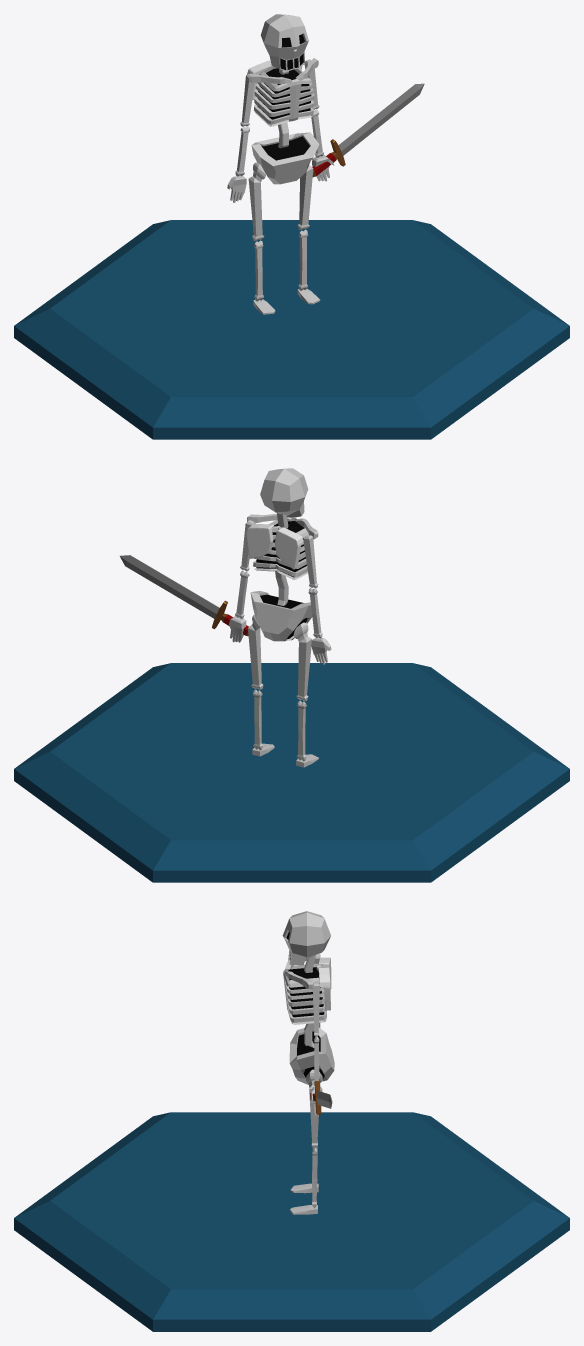
Rendered from Sword_Figure.fbx.
3 views of the same model, one above another, from view 1: azimuth 30°, elevation 25°; view 2: azimuth 150°, elevation 25°; view 3: azimuth 270°, elevation 25° (orthographic).
Parts seen in each view (by area): view 1: Base, Ribs, Waist, Skull, Blade, Upper Leg Right, Upper Leg Left, Collar Bones; view 2: Base, Waist, Skull, Blade, Shoulder, Ribs, Upper Leg Right, Upper Leg Left; view 3: Base, Skull, Ribs, Waist, Shoulder.
Part boxes in pixels (bbox=[...]): Base: bbox=[14, 220, 569, 439]; Ribs: bbox=[254, 66, 314, 126]; Waist: bbox=[251, 132, 319, 184]; Skull: bbox=[260, 14, 308, 71]; Blade: bbox=[312, 83, 424, 177]; Upper Leg Right: bbox=[248, 162, 265, 241]; Upper Leg Left: bbox=[297, 165, 313, 230]; Collar Bones: bbox=[247, 58, 318, 83]; Base: bbox=[14, 663, 569, 882]; Waist: bbox=[250, 591, 312, 641]; Skull: bbox=[260, 468, 308, 517]; Blade: bbox=[120, 555, 248, 636]; Shoulder: bbox=[246, 524, 303, 569]; Ribs: bbox=[253, 518, 308, 579]; Upper Leg Right: bbox=[293, 622, 312, 701]; Upper Leg Left: bbox=[248, 614, 263, 689]; Base: bbox=[14, 1112, 569, 1331]; Skull: bbox=[282, 911, 330, 965]; Ribs: bbox=[283, 963, 326, 1024]; Waist: bbox=[289, 1027, 334, 1084]; Shoulder: bbox=[318, 957, 331, 1010].
Bounding box in the file's own units: 483 × 352 × 558.
